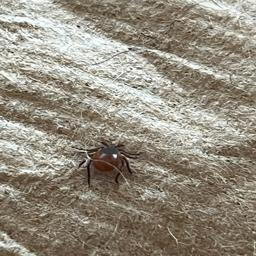Ixodes scapularis: (72, 142, 144, 186)
